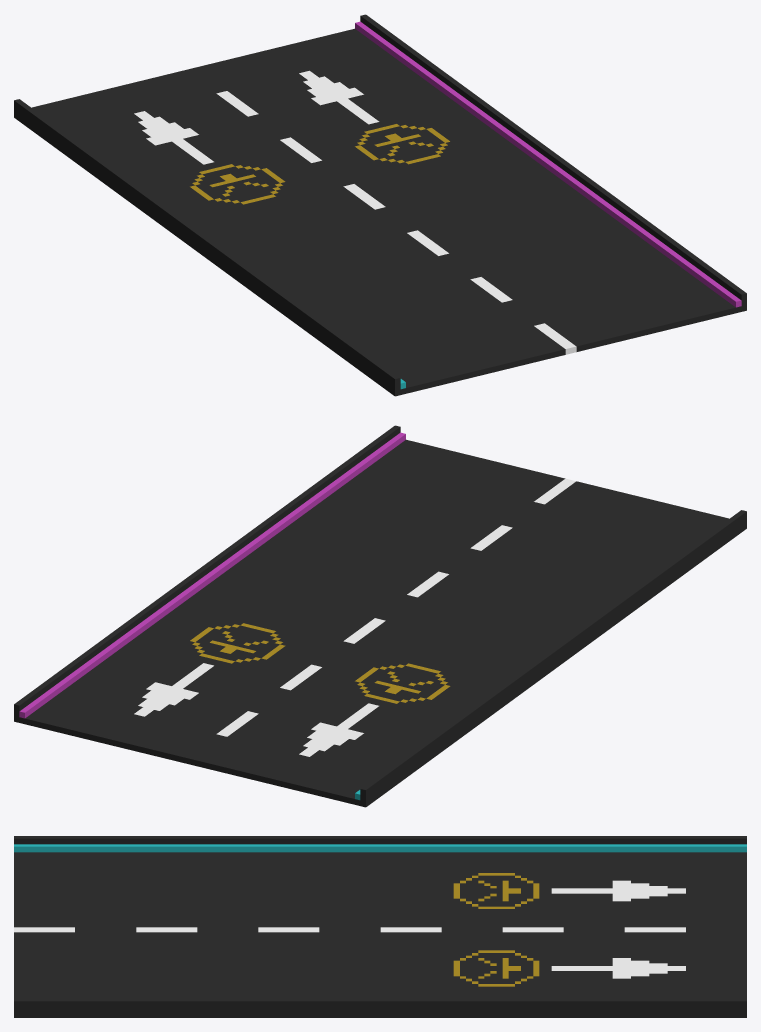
File: SM_Road_7.fbx
3 renders of one model, top to bottom at view 1: azimuth 30°, elevation 25°; view 2: azimuth 150°, elevation 25°; view 3: azimuth 270°, elevation 25°, orthographic. The views are drawn at different scales.
Parts seen in each view (by area): view 1: Road_7; view 2: Road_7; view 3: Road_7.
Part boxes in pixels (x1,y1,x2,y2): Road_7: [14, 14, 746, 396]; Road_7: [14, 425, 746, 807]; Road_7: [14, 836, 746, 1017].
Bounding box in the file's own units: 1280 × 60 × 2400.
3 materials, 1 textured.
